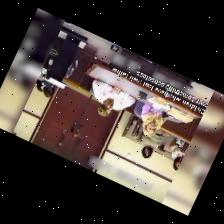person: (92, 79, 134, 115), (136, 129, 168, 157), (140, 103, 164, 136), (171, 138, 184, 169), (41, 80, 55, 96), (35, 78, 41, 90)
